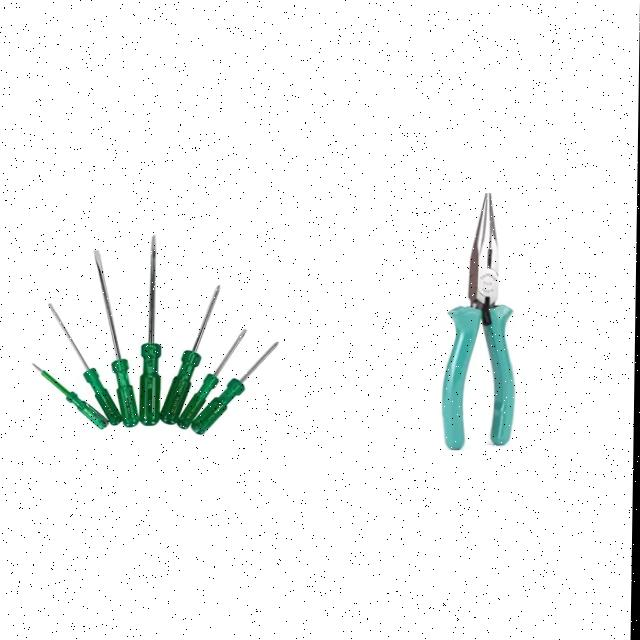Screwdriver: (51, 304, 124, 425), (161, 286, 220, 424), (193, 341, 280, 434), (95, 250, 140, 428), (179, 329, 247, 429), (35, 364, 110, 429), (140, 236, 162, 425)
